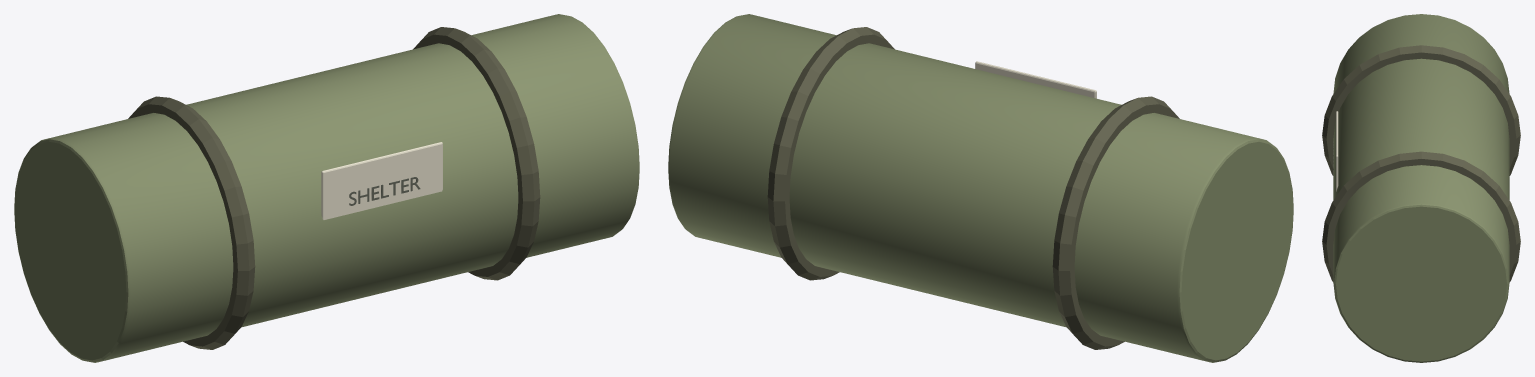
Rendered from prop_emergency_tent.glb.
The picture shows the model from 3 angles, left to right: view 1: azimuth 30°, elevation 25°; view 2: azimuth 150°, elevation 25°; view 3: azimuth 270°, elevation 25°; orthographic projection. The views are drawn at different scales.
Parts seen in each view (by area): view 1: Canvas_sack, Tie_down_strap, Tie_down_strap.001, Tag, Tent_tag; view 2: Canvas_sack, Tie_down_strap, Tie_down_strap.001, Tag; view 3: Canvas_sack, Tie_down_strap.001, Tie_down_strap, Tag.
Boxes of the visible parts, x1,y1,x2,y2 form: Canvas_sack: (14, 14, 639, 362); Tie_down_strap: (128, 96, 255, 349); Tie_down_strap.001: (413, 27, 540, 280); Tag: (321, 142, 442, 219); Tent_tag: (349, 177, 420, 205); Canvas_sack: (668, 14, 1293, 362); Tie_down_strap: (1052, 96, 1179, 349); Tie_down_strap.001: (767, 27, 894, 280); Tag: (975, 61, 1096, 98); Canvas_sack: (1333, 14, 1509, 362); Tie_down_strap.001: (1322, 151, 1520, 281); Tie_down_strap: (1322, 45, 1520, 175); Tag: (1336, 111, 1338, 191).
Bounding box in the file's own units: 0.36 × 0.158 × 0.158.
